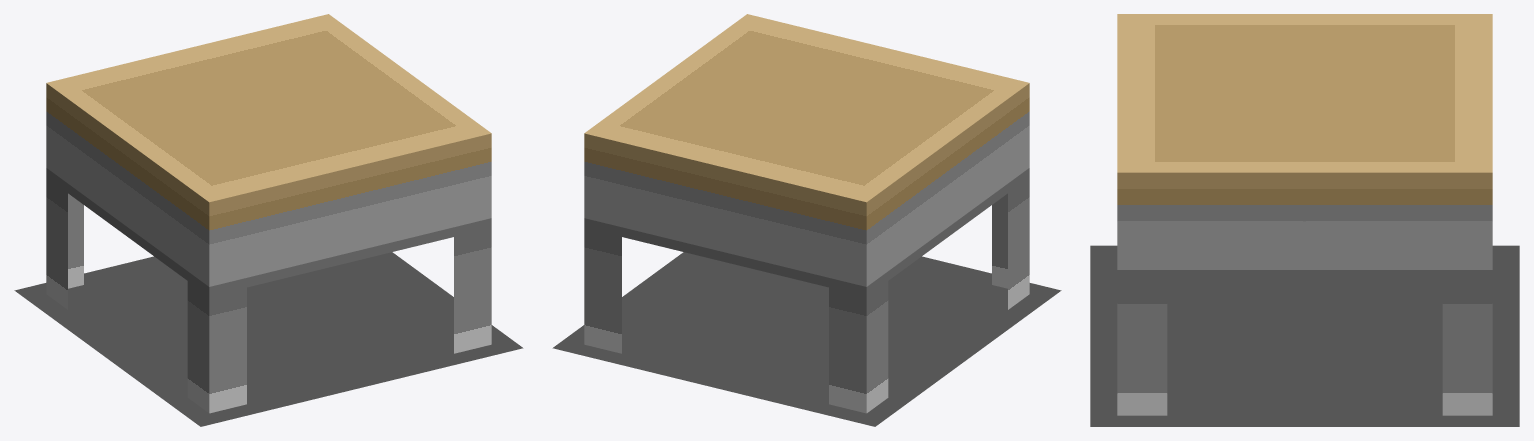
The picture shows the model from 3 angles, left to right: view 1: azimuth 30°, elevation 25°; view 2: azimuth 150°, elevation 25°; view 3: azimuth 270°, elevation 25°; orthographic projection. The views are drawn at different scales.
Visible parts, largest first — view 1: polygon0; view 2: polygon0; view 3: polygon0.
Part boxes in pixels (bbox=[...]): polygon0: bbox=[14, 14, 523, 426]; polygon0: bbox=[552, 14, 1061, 426]; polygon0: bbox=[1090, 14, 1519, 426].
Bounding box in the file's own units: 8 × 5 × 8.
1 material, 1 textured.
